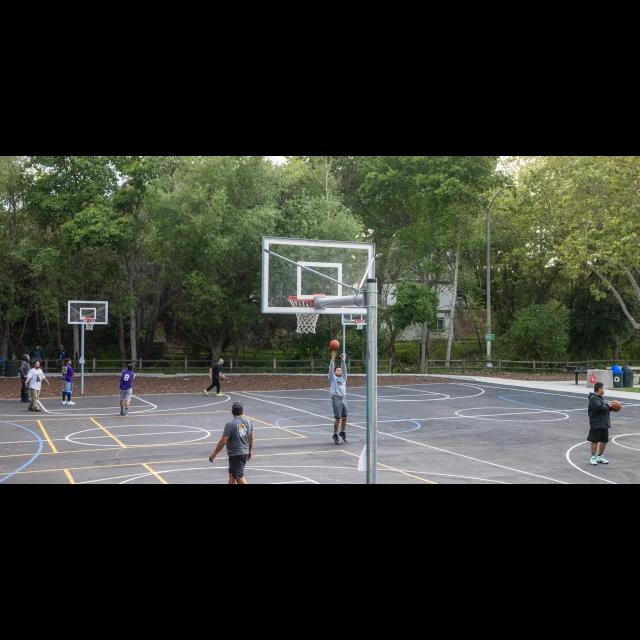basketball: (606, 398, 621, 410), (328, 337, 340, 350), (220, 374, 225, 380)
hoop: (291, 313, 323, 335), (82, 313, 96, 330), (353, 318, 368, 330)
